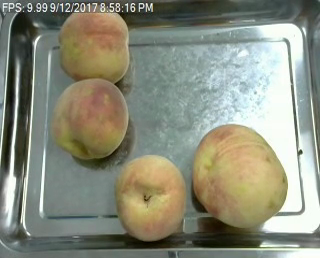Peach: (192, 121, 288, 231), (51, 76, 129, 160), (114, 155, 186, 242), (58, 4, 131, 84)
